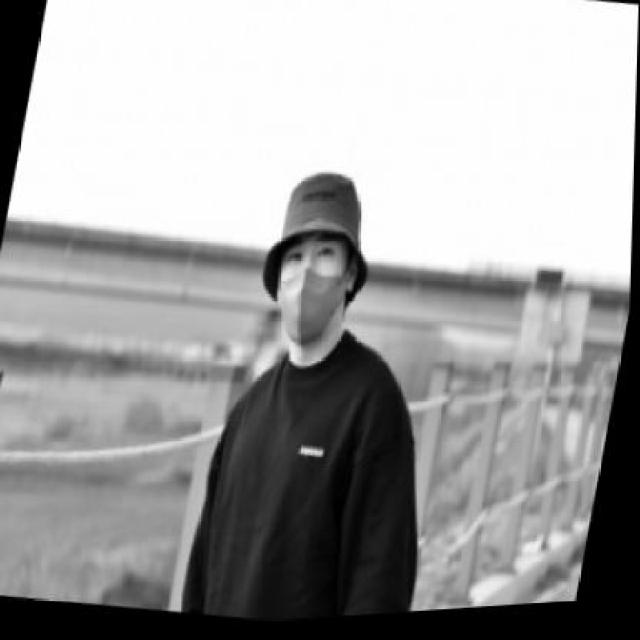hat: (255, 162, 391, 322)
